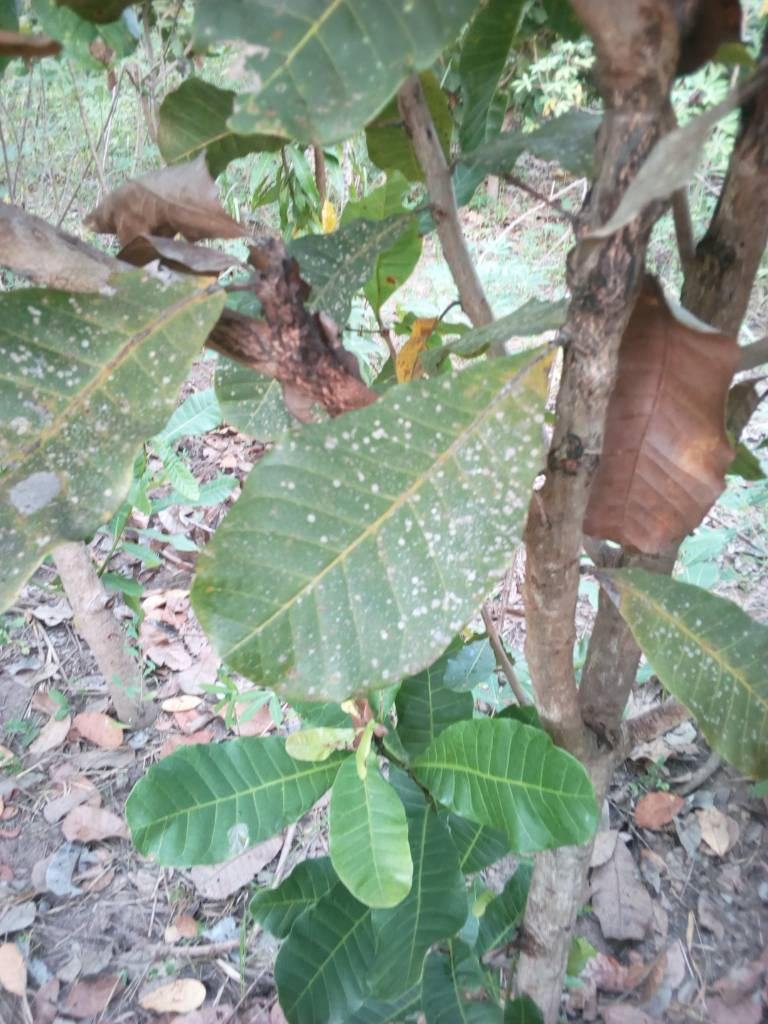Oidium: (178, 327, 578, 718), (1, 269, 261, 602), (582, 545, 768, 808)
